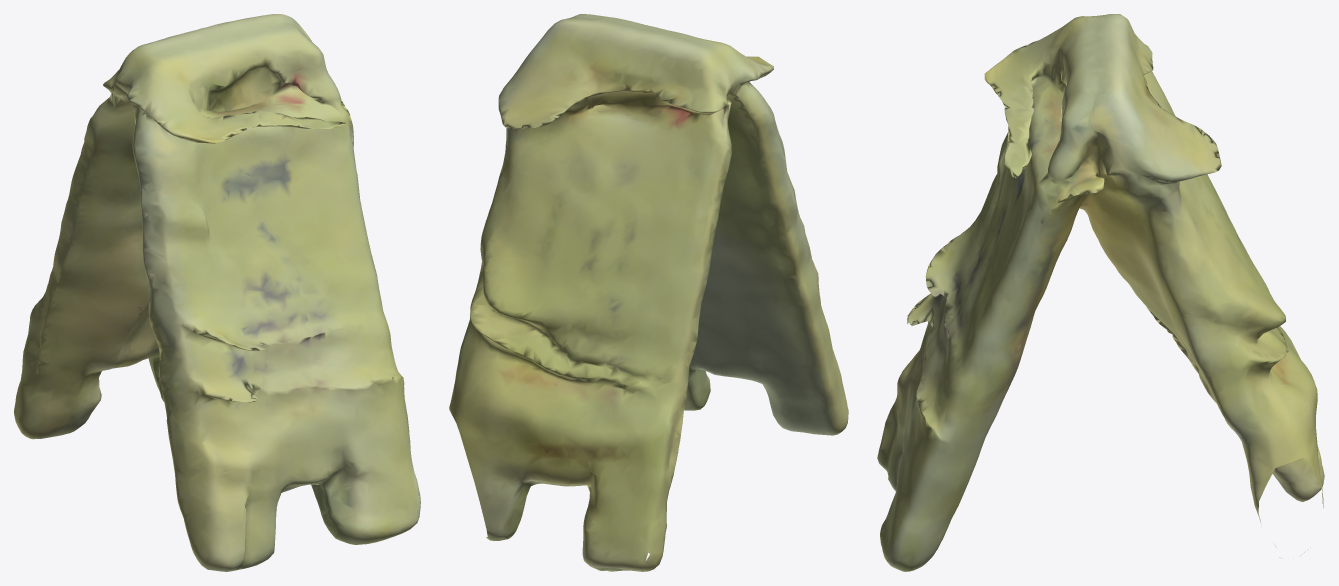
3 views of the same model, side by side, from view 1: azimuth 30°, elevation 25°; view 2: azimuth 150°, elevation 25°; view 3: azimuth 270°, elevation 25° (orthographic). The views are drawn at different scales.
Parts seen in each view (by area): view 1: geometry_0; view 2: geometry_0; view 3: geometry_0.
Part boxes in pixels (left/top/right/bottom): geometry_0: left=14, top=14, right=420, bottom=571; geometry_0: left=449, top=14, right=848, bottom=571; geometry_0: left=877, top=14, right=1324, bottom=571.
Size of the model in its own units: 1.05 by 2 by 1.68.
